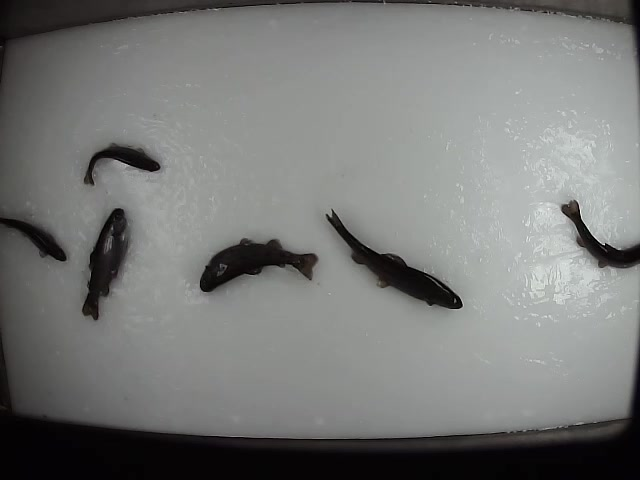fish: (323, 207, 463, 312), (196, 235, 321, 294), (80, 206, 130, 320), (81, 141, 162, 186), (1, 216, 69, 261)
